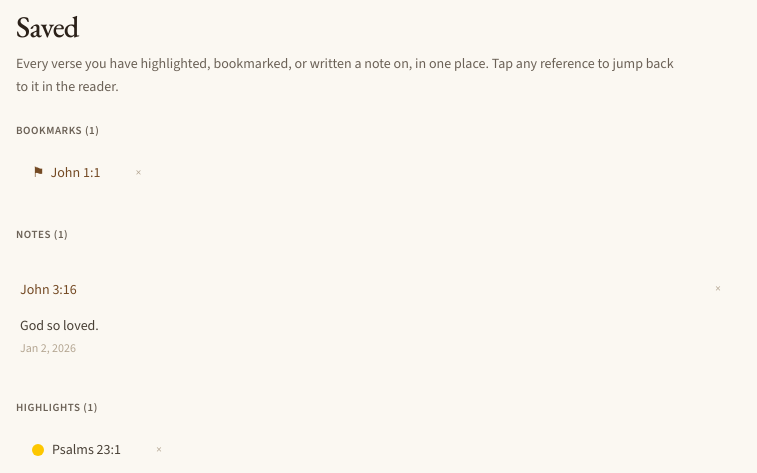
Test: /library/notes — every saved row can be removed › the second tap DELETEs through the shipped annotations route, with its JSON content type
Step 1. Click the button named "Remove note on John 3:16" → (718, 290), box [696,268,740,312]
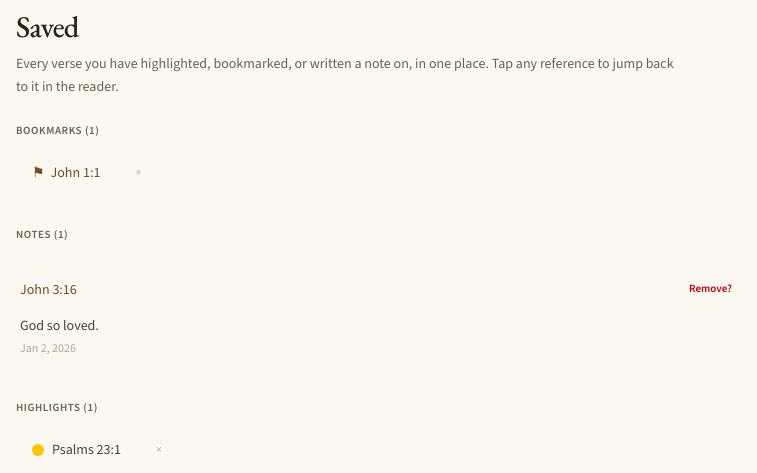
Step 2. Click the button with aria-label "Confirm remove: note on John 3:16" → (711, 290), box [681,268,740,312]
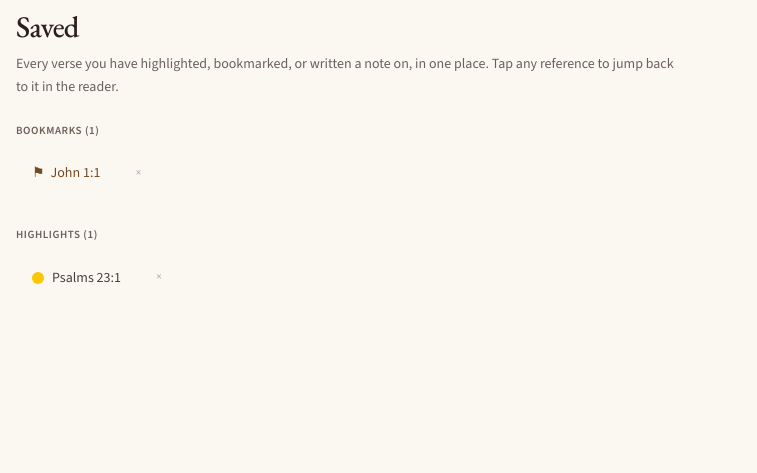
expect the text "God so loved." is gone: met
